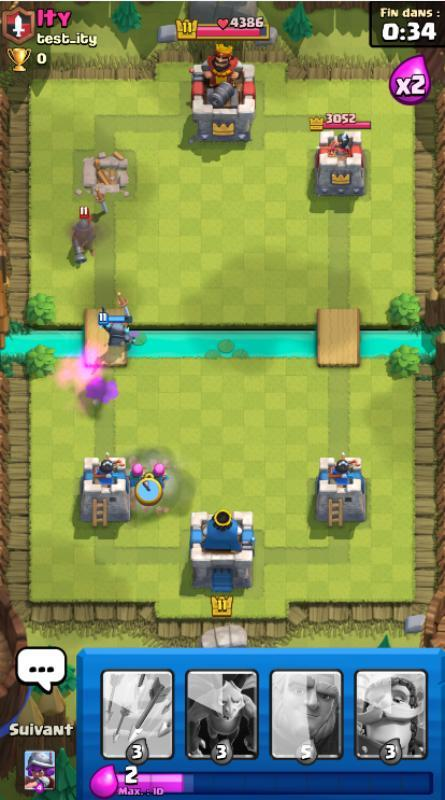archere: (149, 463, 170, 489), (128, 464, 147, 486)
mini_PEKKA: (97, 305, 135, 347)
mousquetaire: (72, 205, 97, 264)
